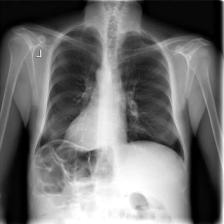normal: (31, 20, 188, 167)
